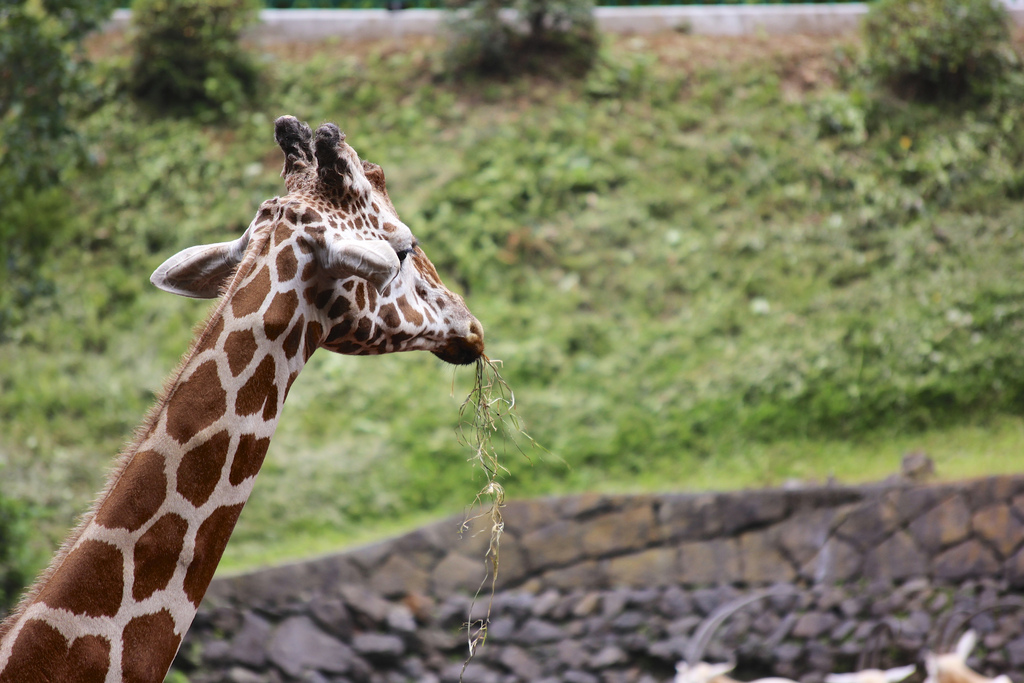giraffe: (52, 101, 538, 654)
